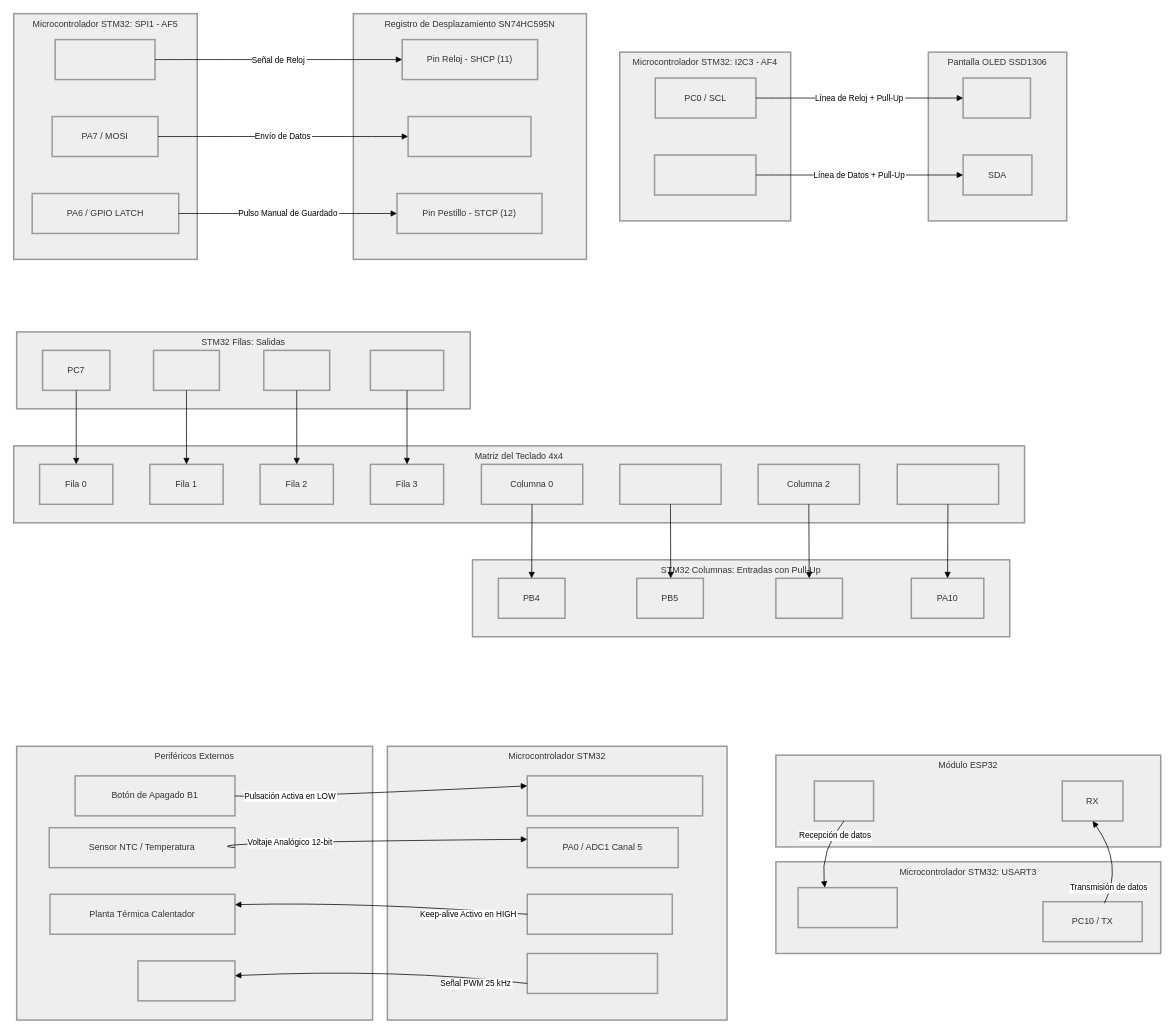
The diagram is 1174 pixels wide and 1033 high, and some of its shapes have lost their labels. Here are the shapes that lost their labels. From the top down, the centre of each, then its label:
At pixel 104 59: "PA5 / SCK".
At pixel 996 97: "SCL".
At pixel 469 136: "Pin Datos - DS (14)".
At pixel 704 174: "PC1 / SDA".
At pixel 186 370: "PA9".
At pixel 296 370: "PA8".
At pixel 406 370: "PB10".
At pixel 670 484: "Columna 1".
At pixel 947 484: "Columna 3".
At pixel 809 598: "PB3".
At pixel 614 795: "PC13 / Botón de Usuario".
At pixel 843 800: "TX".
At pixel 599 914: "PA4 / Salida Digital".
At pixel 847 907: "PC11 / RX".
At pixel 186 980: "Ventilador".
At pixel 592 973: "PB0 / TIM3 CH3".
